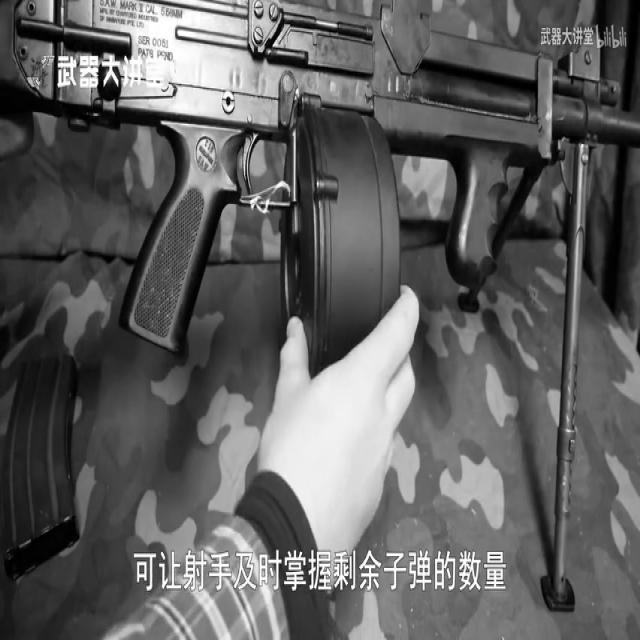Sub-machine-gun: (16, 52, 629, 342)
